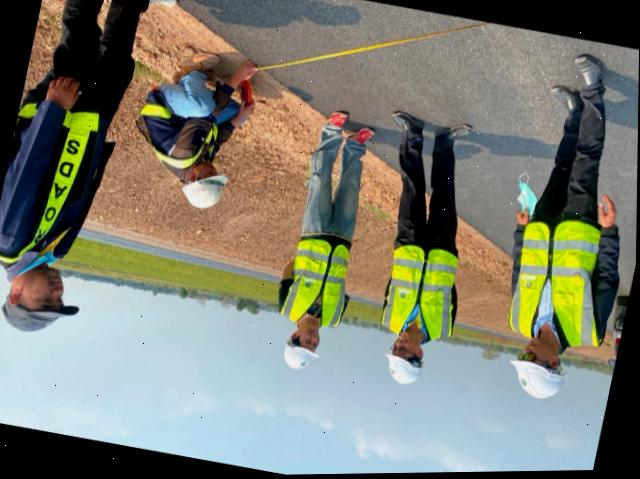helmet: (504, 353, 565, 406), (176, 166, 231, 214), (382, 350, 427, 387), (277, 340, 321, 375)
vest: (0, 100, 101, 276), (497, 213, 618, 350), (377, 241, 467, 346), (282, 233, 357, 331), (127, 98, 226, 170)
